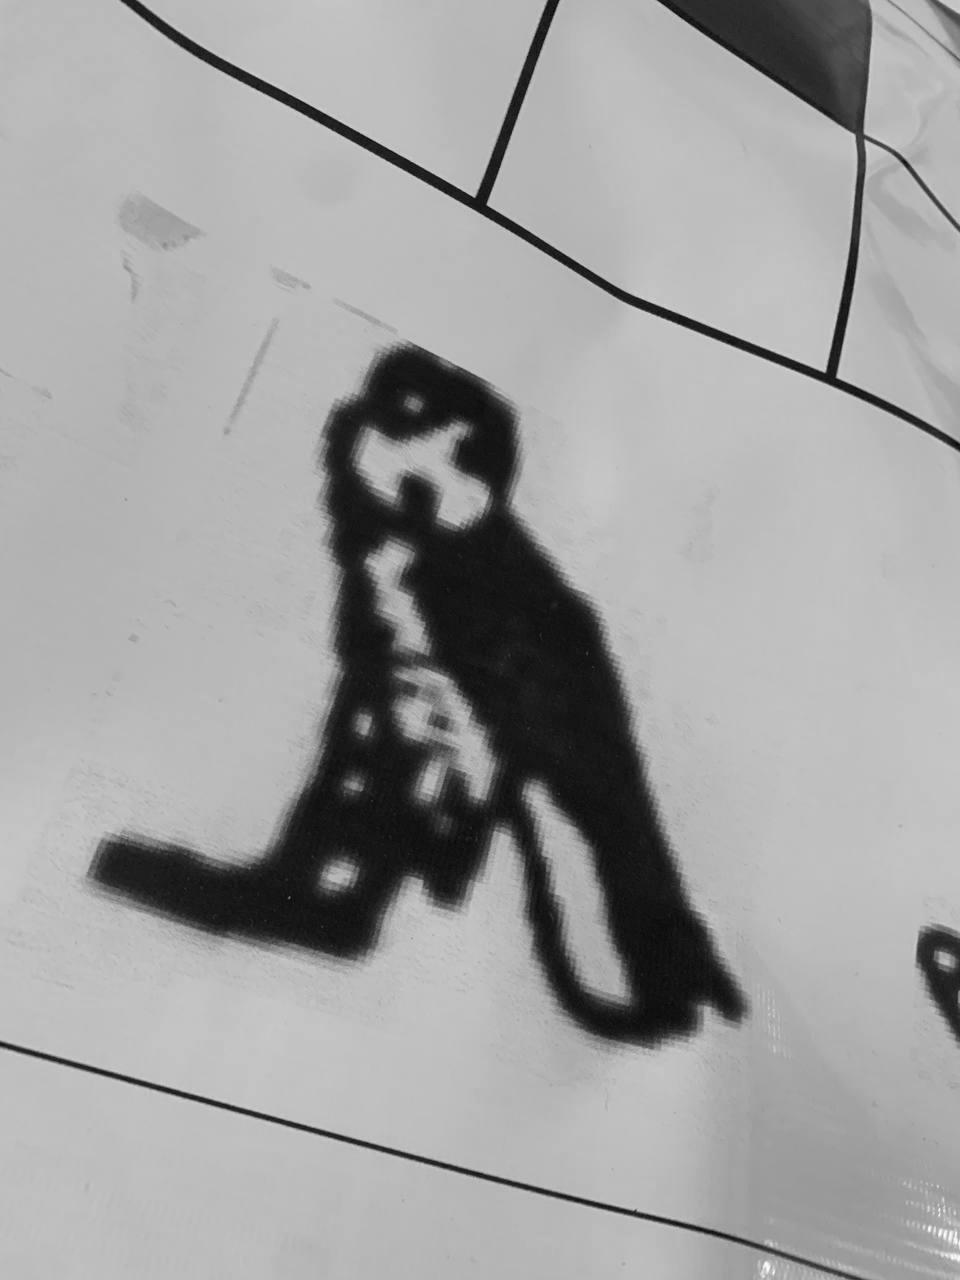Owl: (92, 298, 760, 1066)
